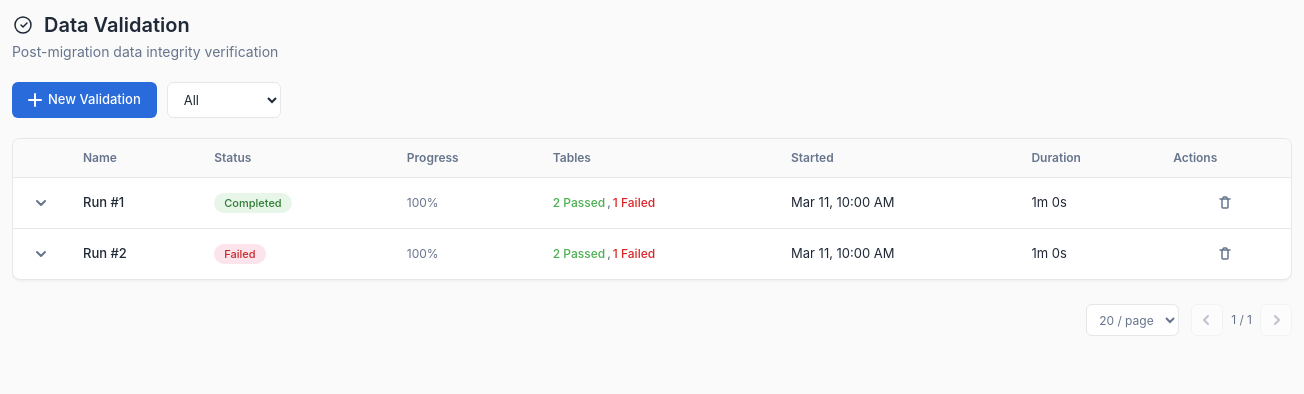
Test: Expandable rows and navigation › error message with retry shows on fetch failure
The width and height of the screenshot is (1304, 394).
Expected: the text "Run #1" is shown, 69,178 -> 200,228
Click the button named "Expand run 1". click: (41,203)
box: 27,189 -> 55,217
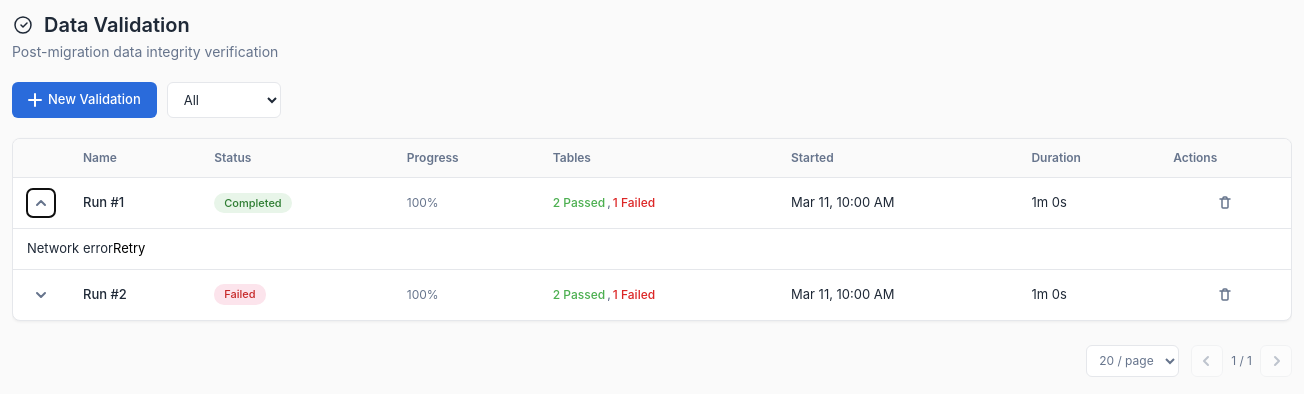
Now the text "Network error" is shown, box 27,240 -> 113,256
Now the button "Retry" is shown, box 113,239 -> 145,258
